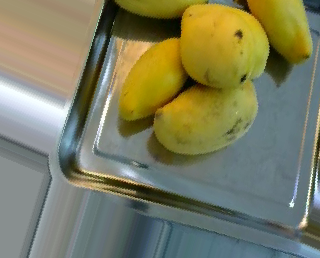Mango: (151, 73, 261, 162), (176, 2, 272, 87), (121, 34, 200, 124)
